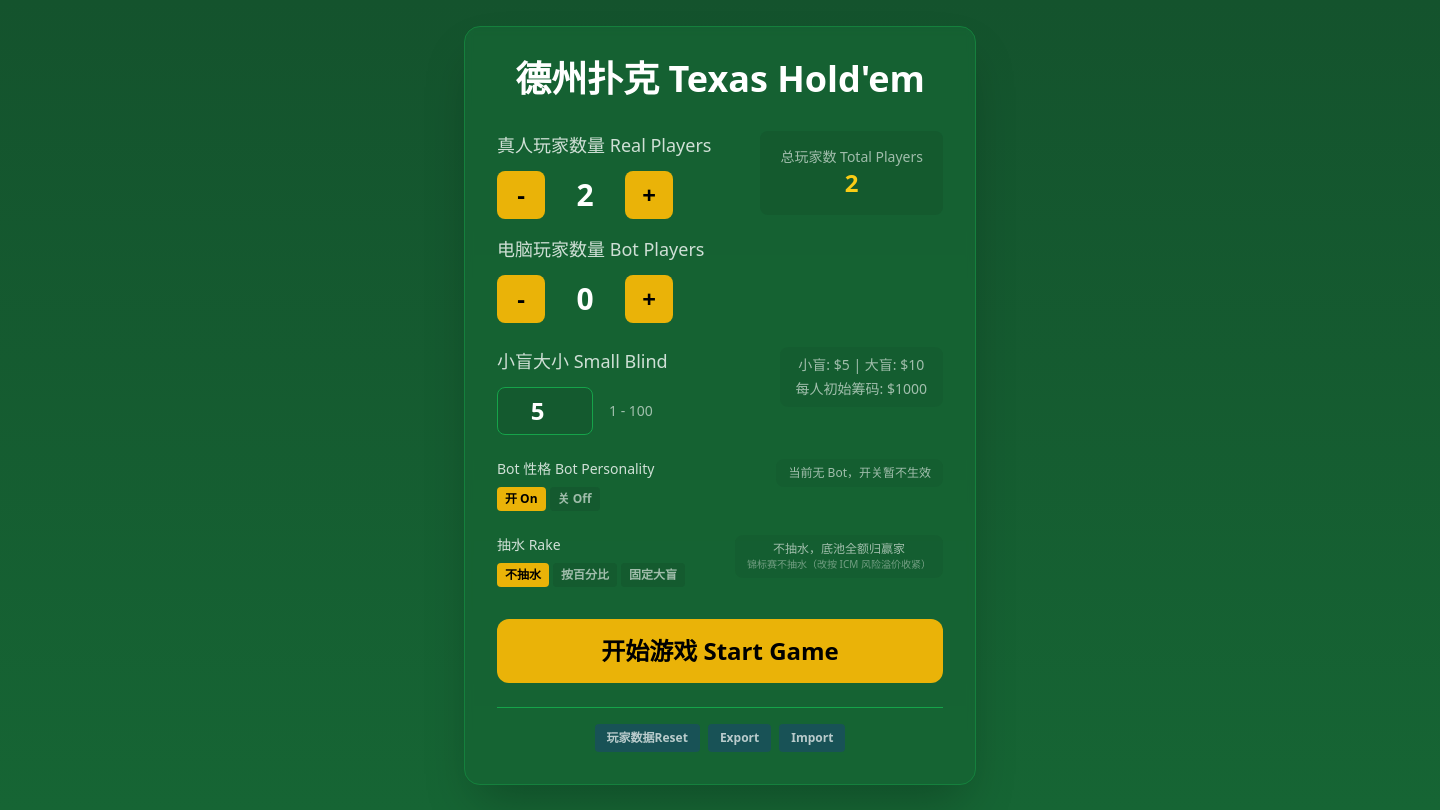
it: StartPage 抽水配置 › 切模式时按新模式的上限重新夹取（比例 15 → 大盲上限 10）
Click the button "按百分比". click: (585, 574)
box: [553,562,617,586]
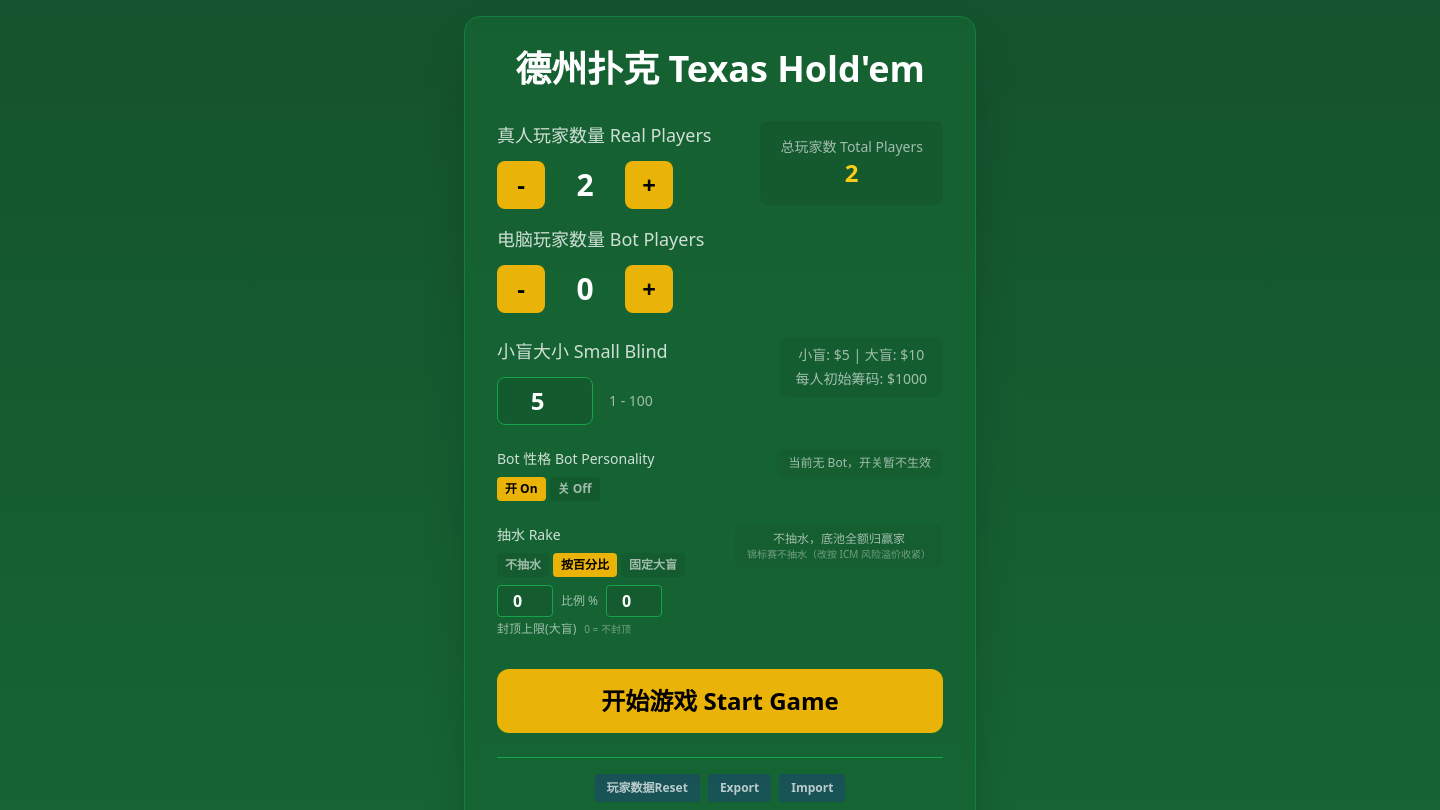
Replace the text in the number field named "抽水数值" with "15". click: (525, 601)
box: [497,585,553,617]
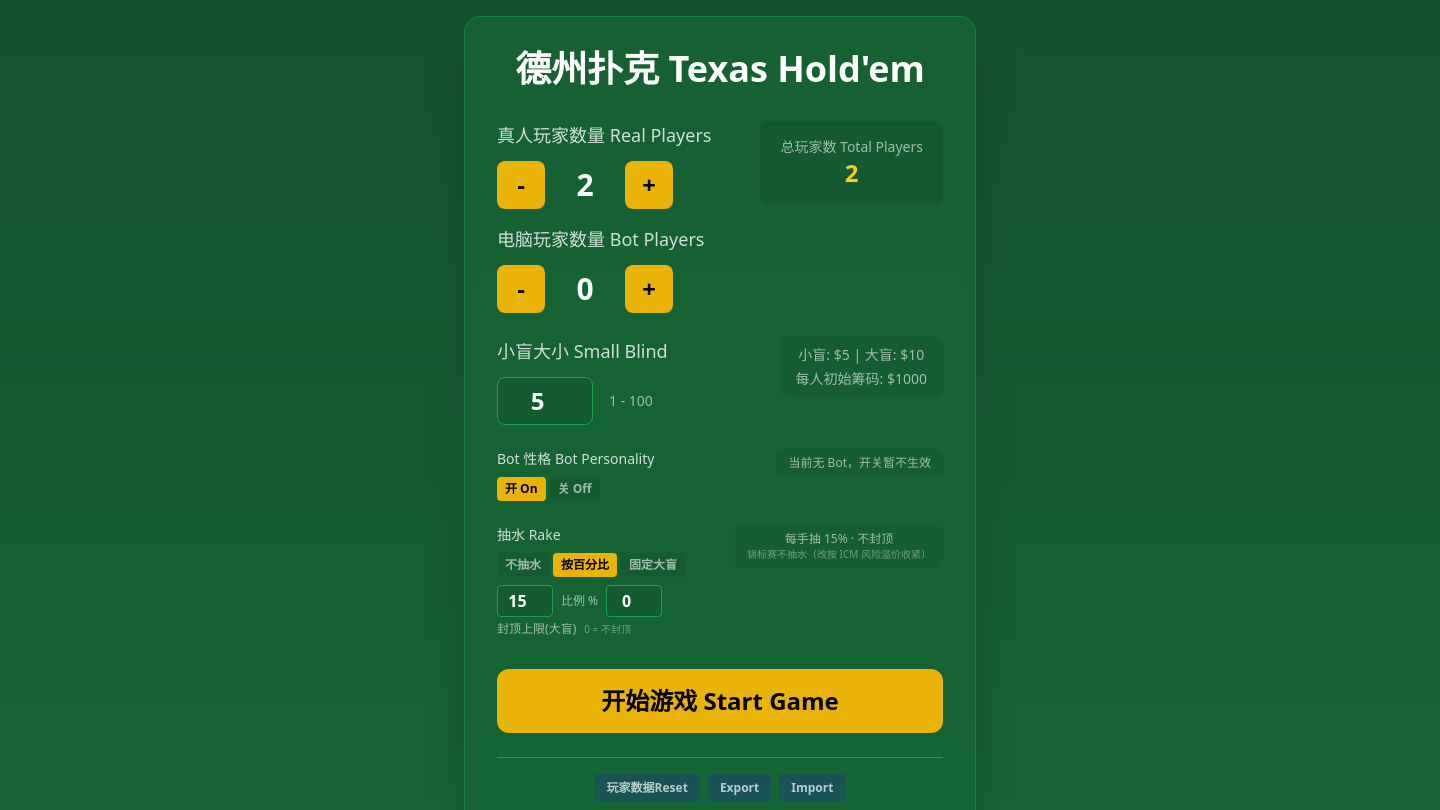
Click the button "固定大盲". click: (653, 565)
box: [621,553,685,577]
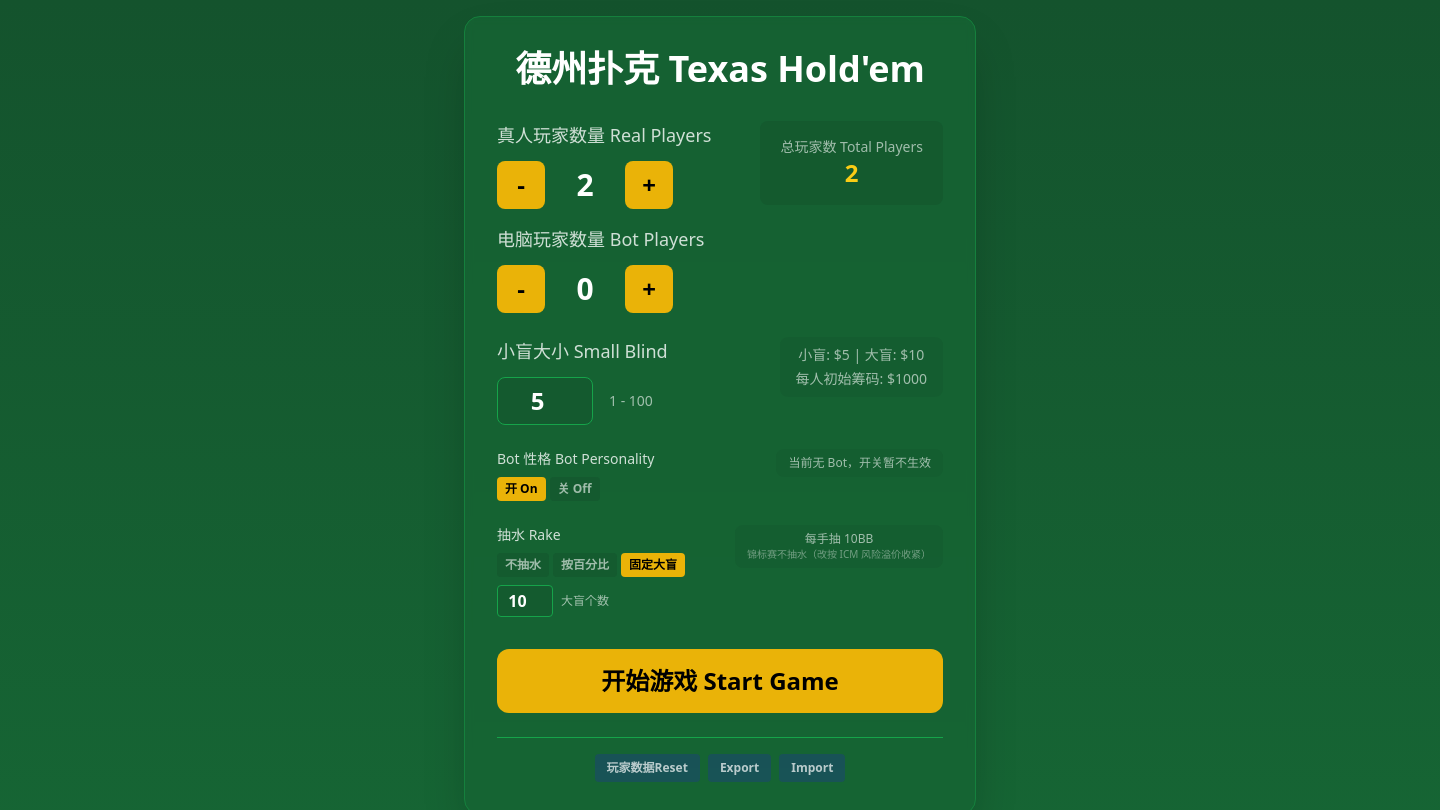
Result: the number field named "抽水数值" holds "10" at [497,585,553,617]
